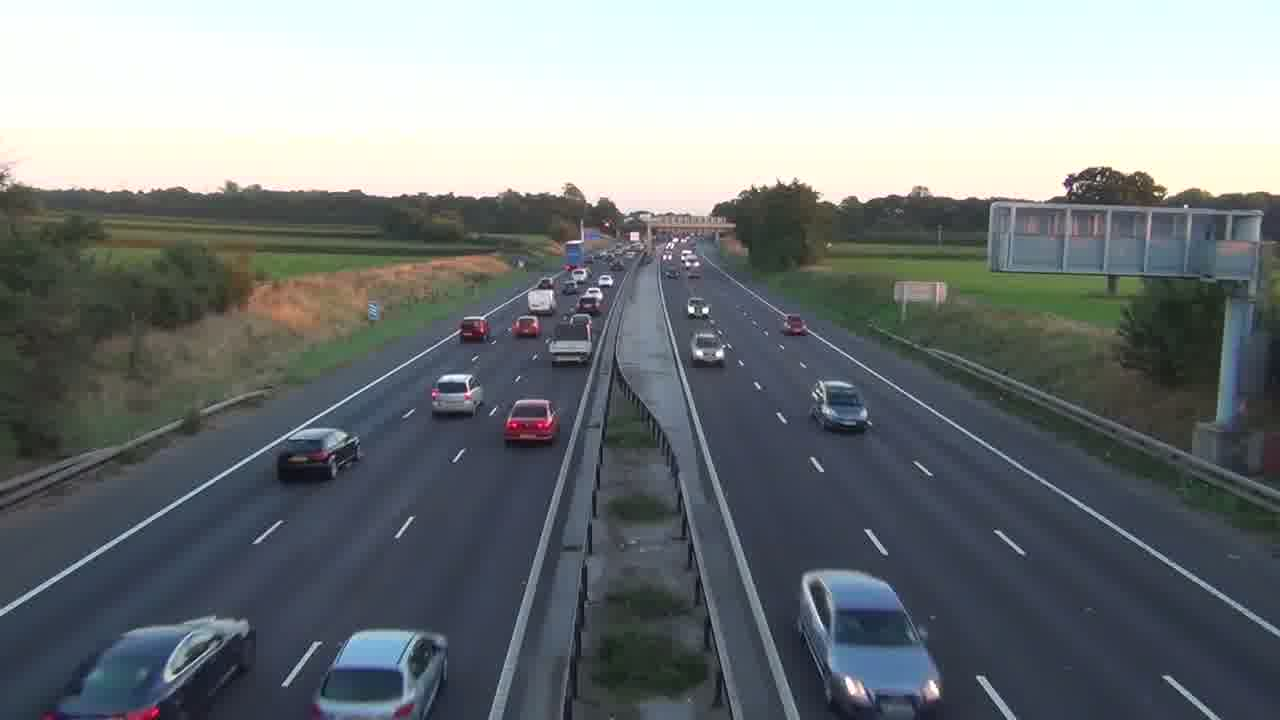car: (39, 615, 256, 718), (796, 567, 943, 718), (310, 627, 449, 719), (274, 426, 362, 481), (810, 379, 871, 433), (503, 398, 561, 446), (430, 372, 483, 419), (690, 330, 727, 367)
